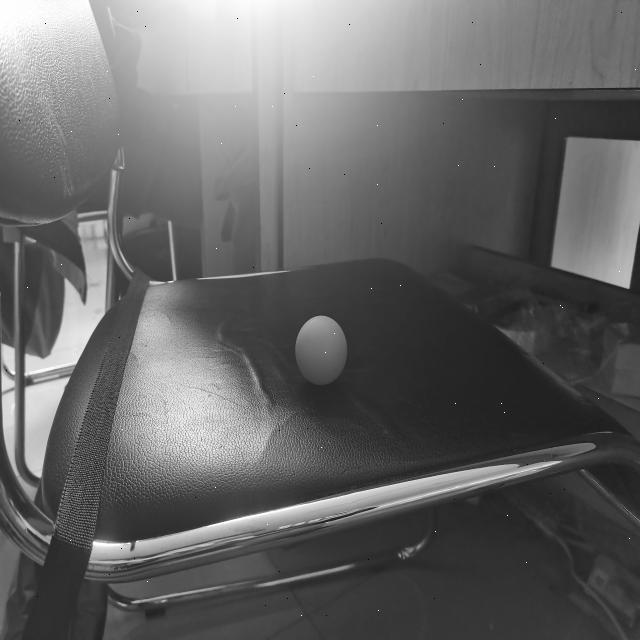ping-pong-ball: (294, 312, 348, 388)
